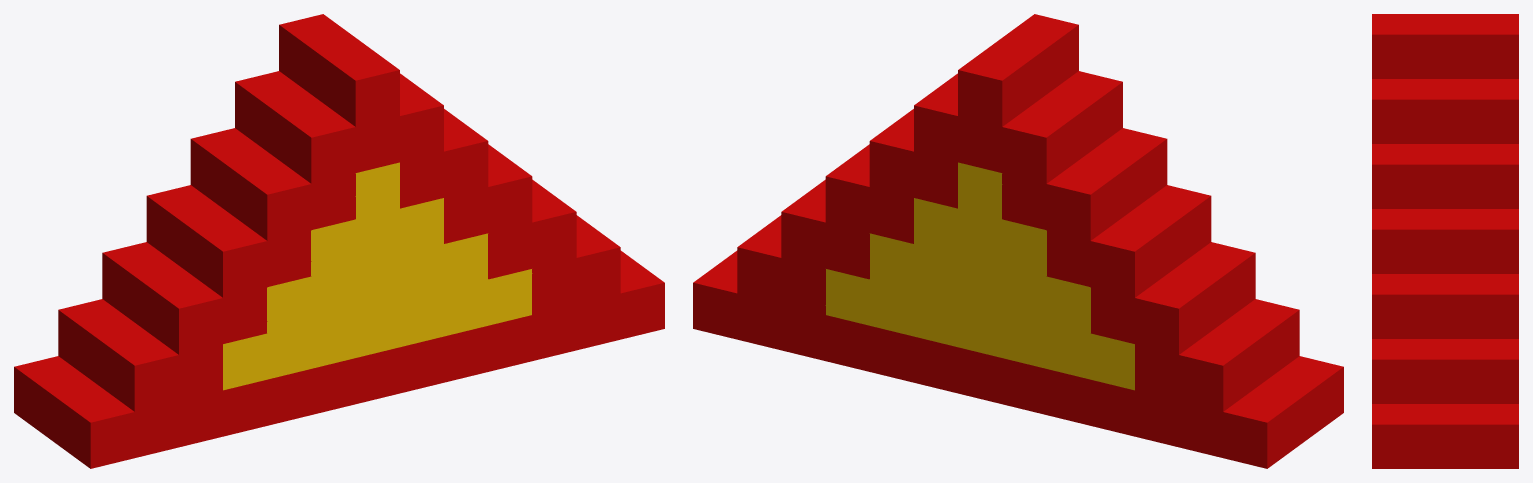
The model's file is flecha.fbx.
The picture shows the model from 3 angles, left to right: view 1: azimuth 30°, elevation 25°; view 2: azimuth 150°, elevation 25°; view 3: azimuth 270°, elevation 25°; orthographic projection. The views are drawn at different scales.
Parts seen in each view (by area): view 1: Matrix_25; view 2: Matrix_25; view 3: Matrix_25.
Boxes of the visible parts, left/top/right/bottom form: Matrix_25: left=14, top=14, right=664, bottom=468; Matrix_25: left=693, top=14, right=1343, bottom=468; Matrix_25: left=1372, top=14, right=1518, bottom=468.
Bounding box in the file's own units: 13 × 7 × 3.
